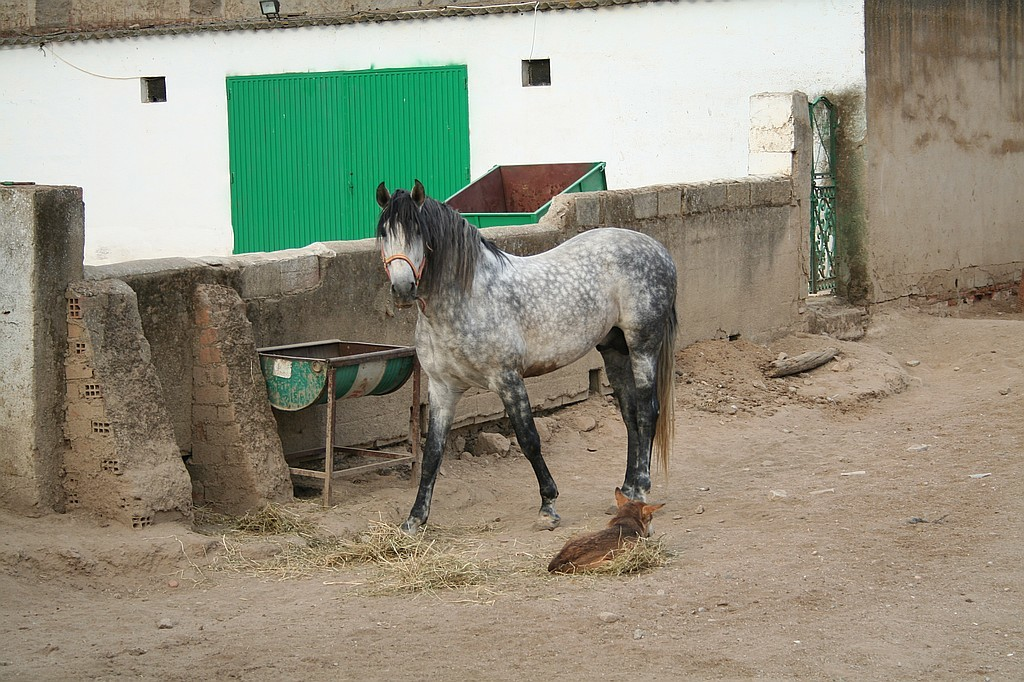horse: (375, 178, 682, 529)
